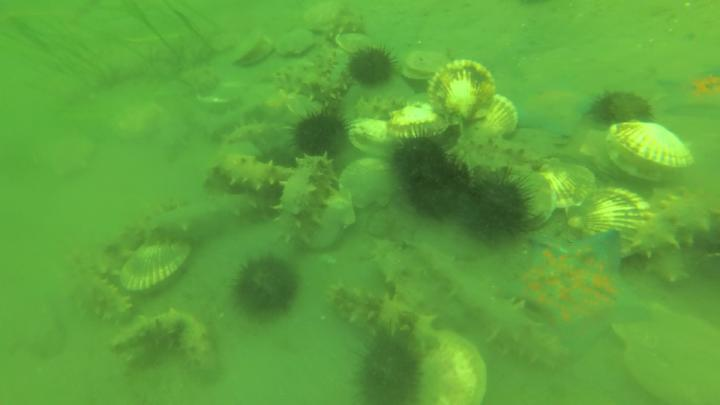echinus: (353, 319, 425, 405), (458, 172, 533, 242), (232, 250, 303, 320), (406, 151, 472, 221), (290, 109, 349, 157), (388, 132, 444, 182), (591, 87, 655, 130), (348, 45, 398, 91)
holothurian: (412, 242, 568, 367), (108, 309, 226, 387), (369, 236, 466, 327), (322, 282, 441, 353), (97, 195, 188, 279), (130, 191, 265, 245), (629, 188, 715, 263), (271, 155, 340, 247), (66, 247, 136, 322), (451, 130, 543, 185), (214, 152, 296, 193), (274, 62, 345, 108), (153, 66, 223, 99), (174, 102, 225, 141), (159, 103, 189, 169), (225, 114, 282, 145), (351, 94, 403, 122), (324, 13, 367, 44)
scallop: (615, 304, 720, 405), (568, 185, 656, 258), (606, 120, 697, 185), (419, 329, 495, 405), (426, 58, 500, 125), (119, 241, 196, 295), (535, 157, 600, 212), (337, 157, 400, 212), (311, 184, 359, 256), (108, 96, 175, 147), (515, 172, 559, 232), (471, 95, 522, 139), (347, 120, 397, 161), (231, 27, 275, 72), (389, 104, 440, 140), (198, 81, 250, 111), (274, 27, 319, 61), (301, 1, 348, 32), (399, 48, 439, 84), (334, 30, 379, 56)
starfish: (500, 225, 659, 347), (508, 79, 597, 141), (655, 63, 720, 122)
